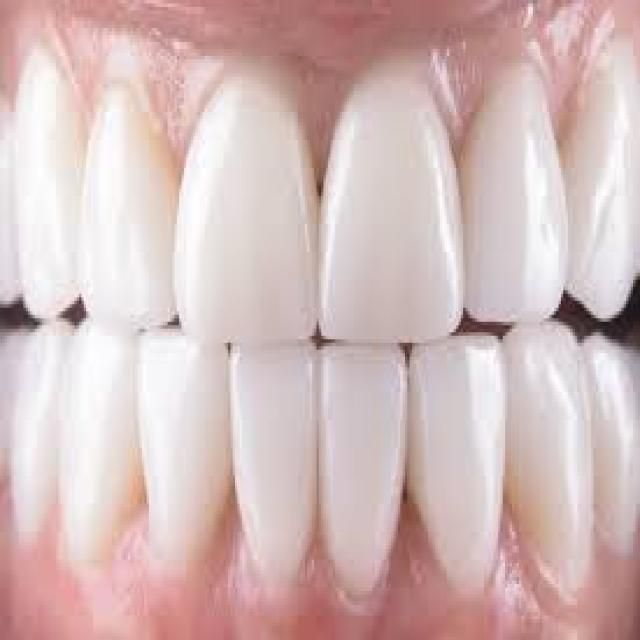tooth: (186, 59, 319, 343), (324, 73, 466, 336), (500, 322, 591, 594), (463, 77, 563, 322), (316, 315, 401, 598), (86, 74, 175, 326), (230, 343, 312, 598), (416, 360, 501, 602), (137, 332, 219, 577), (572, 59, 638, 322), (72, 325, 137, 581), (14, 60, 79, 312), (589, 322, 640, 552), (16, 346, 61, 570), (2, 122, 21, 315)
